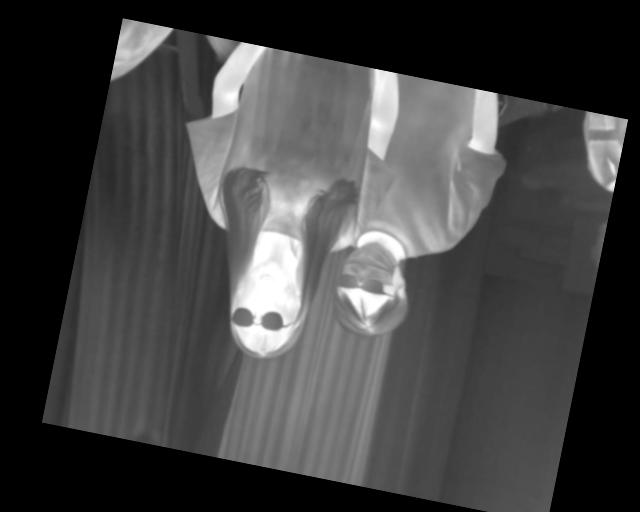face: (220, 252, 312, 364), (328, 235, 418, 344)
